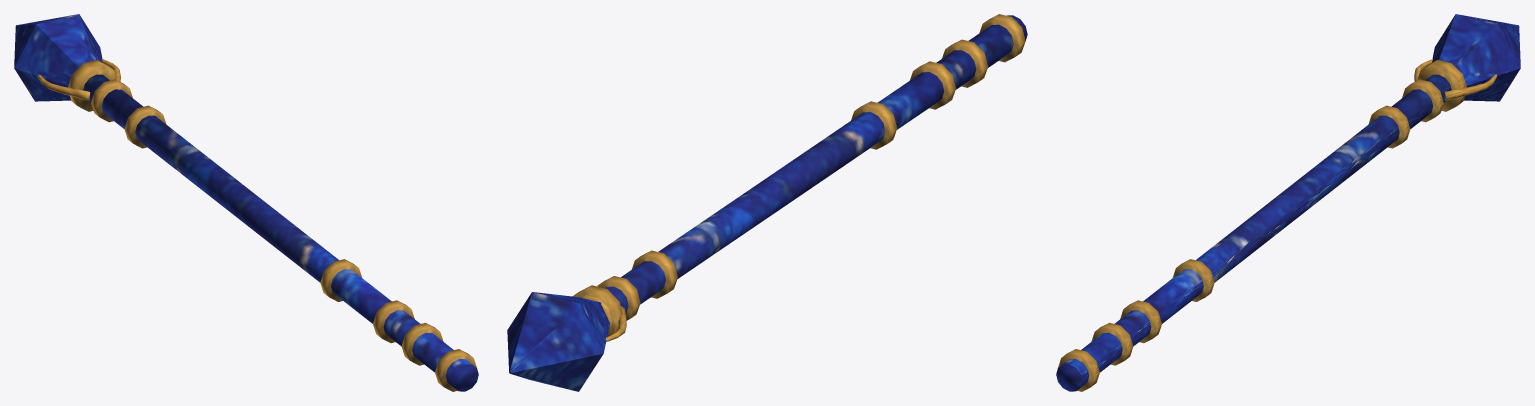
File: item_wand1.glb
The picture shows the model from 3 angles, left to right: view 1: azimuth 30°, elevation 25°; view 2: azimuth 150°, elevation 25°; view 3: azimuth 330°, elevation 25°; orthographic projection. The views are drawn at different scales.
Visible parts, largest first — view 1: item_wand1; view 2: item_wand1; view 3: item_wand1.
Boxes of the visible parts, bbox=[...] form: item_wand1: bbox=[14, 14, 478, 391]; item_wand1: bbox=[507, 14, 1027, 391]; item_wand1: bbox=[1056, 14, 1520, 391].
Size of the model in its own units: 0.1106 by 0.0958 by 1.
1 material, 1 textured.
